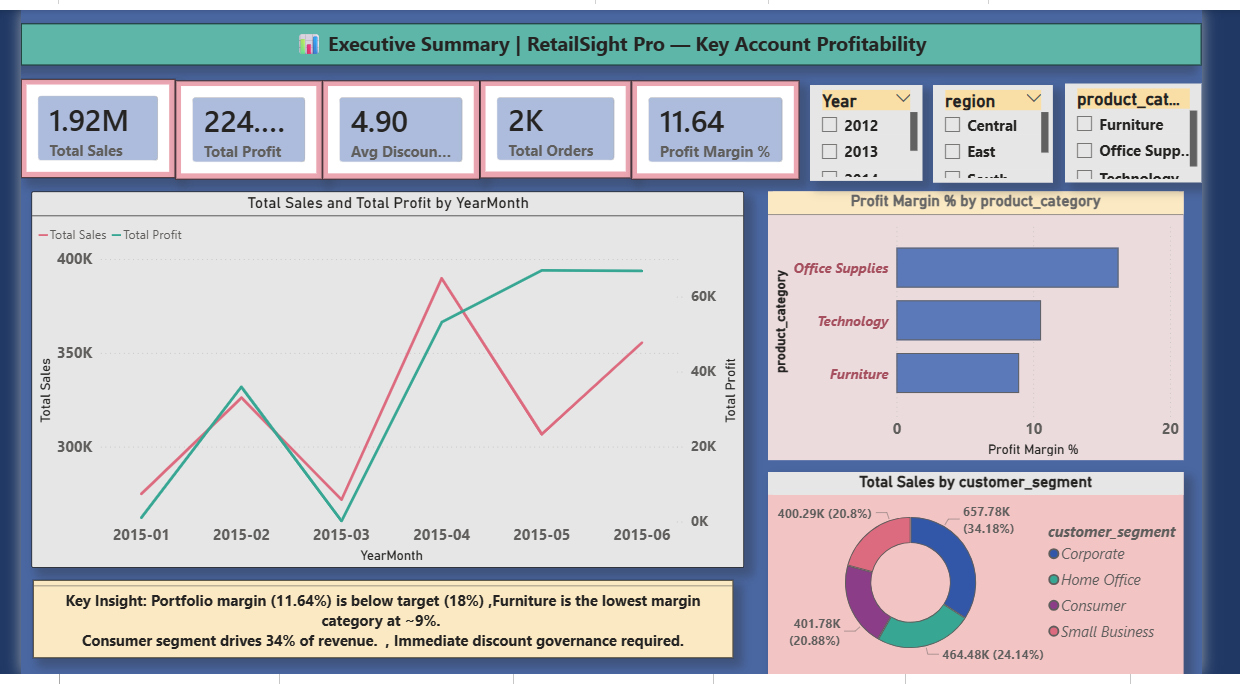

This screenshot's page, from the dashboard's own definition file:
{"tool":"powerbi","page":{"name":"Executive Summary","canvas":[1280,720],"ordinal":0},"visuals":[{"type":"cardVisual","fields":{"Data":["_Measures.Total Sales"]},"box":[0,74.8,167.5,107.4],"z":0},{"type":"cardVisual","fields":{"Data":["_Measures.Total Profit"]},"box":[167.5,76.4,159.4,107.4],"z":1000},{"type":"cardVisual","fields":{"Data":["_Measures.Avg Discount %"]},"box":[326.9,76.4,170.8,107.4],"z":2000},{"type":"cardVisual","fields":{"Data":["_Measures.Total Orders"]},"box":[497.7,76.4,164.3,105.7],"z":3000},{"type":"cardVisual","fields":{"Data":["_Measures.Profit Margin %"]},"box":[662,76.4,182.2,107.4],"z":4000},{"type":"lineChart","fields":{"Category":["DateTable.YearMonth"],"Y":["_Measures.Total Sales"],"Y2":["_Measures.Total Profit"]},"box":[11.4,196.8,772.6,408.3],"z":5000},{"type":"donutChart","fields":{"Y":["_Measures.Total Sales"],"Category":["SuperStoreUs_data.customer_segment"]},"box":[810,501,450.6,219.6],"z":6000},{"type":"clusteredBarChart","fields":{"Category":["SuperStoreUs_data.product_category"],"Y":["_Measures.Profit Margin %"]},"box":[810,196.8,450.6,291.2],"z":7000},{"type":"slicer","fields":{"Values":["DateTable.Year"]},"box":[855.6,81.3,122,104.1],"z":8000},{"type":"textbox","box":[13,618.1,759.6,84.6],"z":9000},{"type":"slicer","fields":{"Values":["SuperStoreUs_data.region"]},"box":[988.9,81.3,130.1,105.7],"z":10000},{"type":"slicer","fields":{"Values":["SuperStoreUs_data.product_category"]},"box":[1132.1,79.7,148,107.4],"z":11000},{"type":"textbox","box":[0,14.6,1280.1,45.5],"z":12000}]}

Visuals, with their boxes in screenshot pixels (x1, y1, x2, y2), scaled from the page's 1280x720 canvas onto the 1240x684 screenshot:
cardVisual - _Measures.Total Sales: 0, 71, 162, 173
cardVisual - _Measures.Total Profit: 162, 73, 317, 175
cardVisual - _Measures.Avg Discount %: 317, 73, 482, 175
cardVisual - _Measures.Total Orders: 482, 73, 641, 173
cardVisual - _Measures.Profit Margin %: 641, 73, 818, 175
lineChart - DateTable.YearMonth x _Measures.Total Sales: 11, 187, 760, 575
donutChart - _Measures.Total Sales x SuperStoreUs_data.customer_segment: 785, 476, 1221, 683
clusteredBarChart - SuperStoreUs_data.product_category x _Measures.Profit Margin %: 785, 187, 1221, 464
slicer - DateTable.Year: 829, 77, 947, 176
textbox: 13, 587, 748, 668
slicer - SuperStoreUs_data.region: 958, 77, 1084, 178
slicer - SuperStoreUs_data.product_category: 1097, 76, 1239, 178
textbox: 0, 14, 1239, 57
